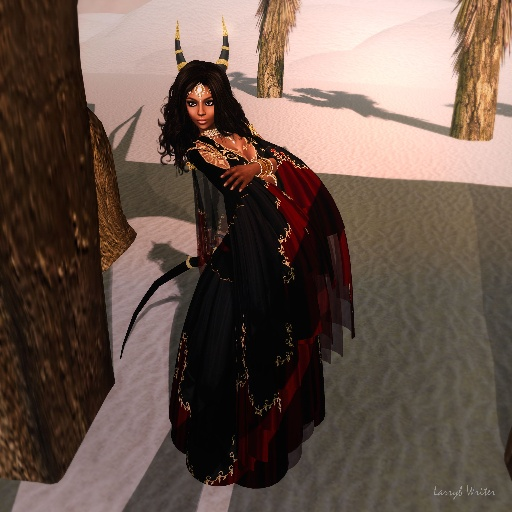hand: (220, 163, 256, 192), (212, 239, 228, 250)
